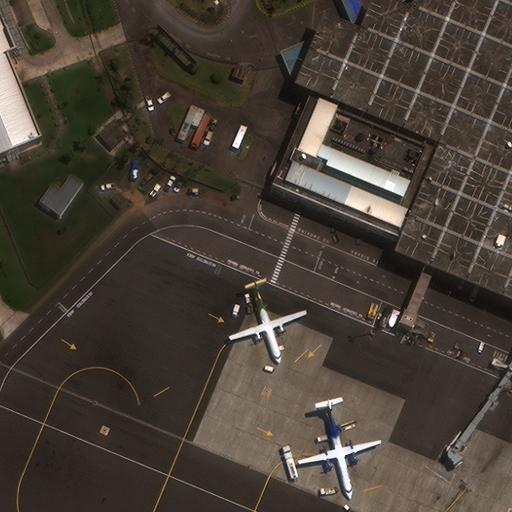Medium Civil Transport: (299, 399, 381, 499), (230, 280, 307, 363)
